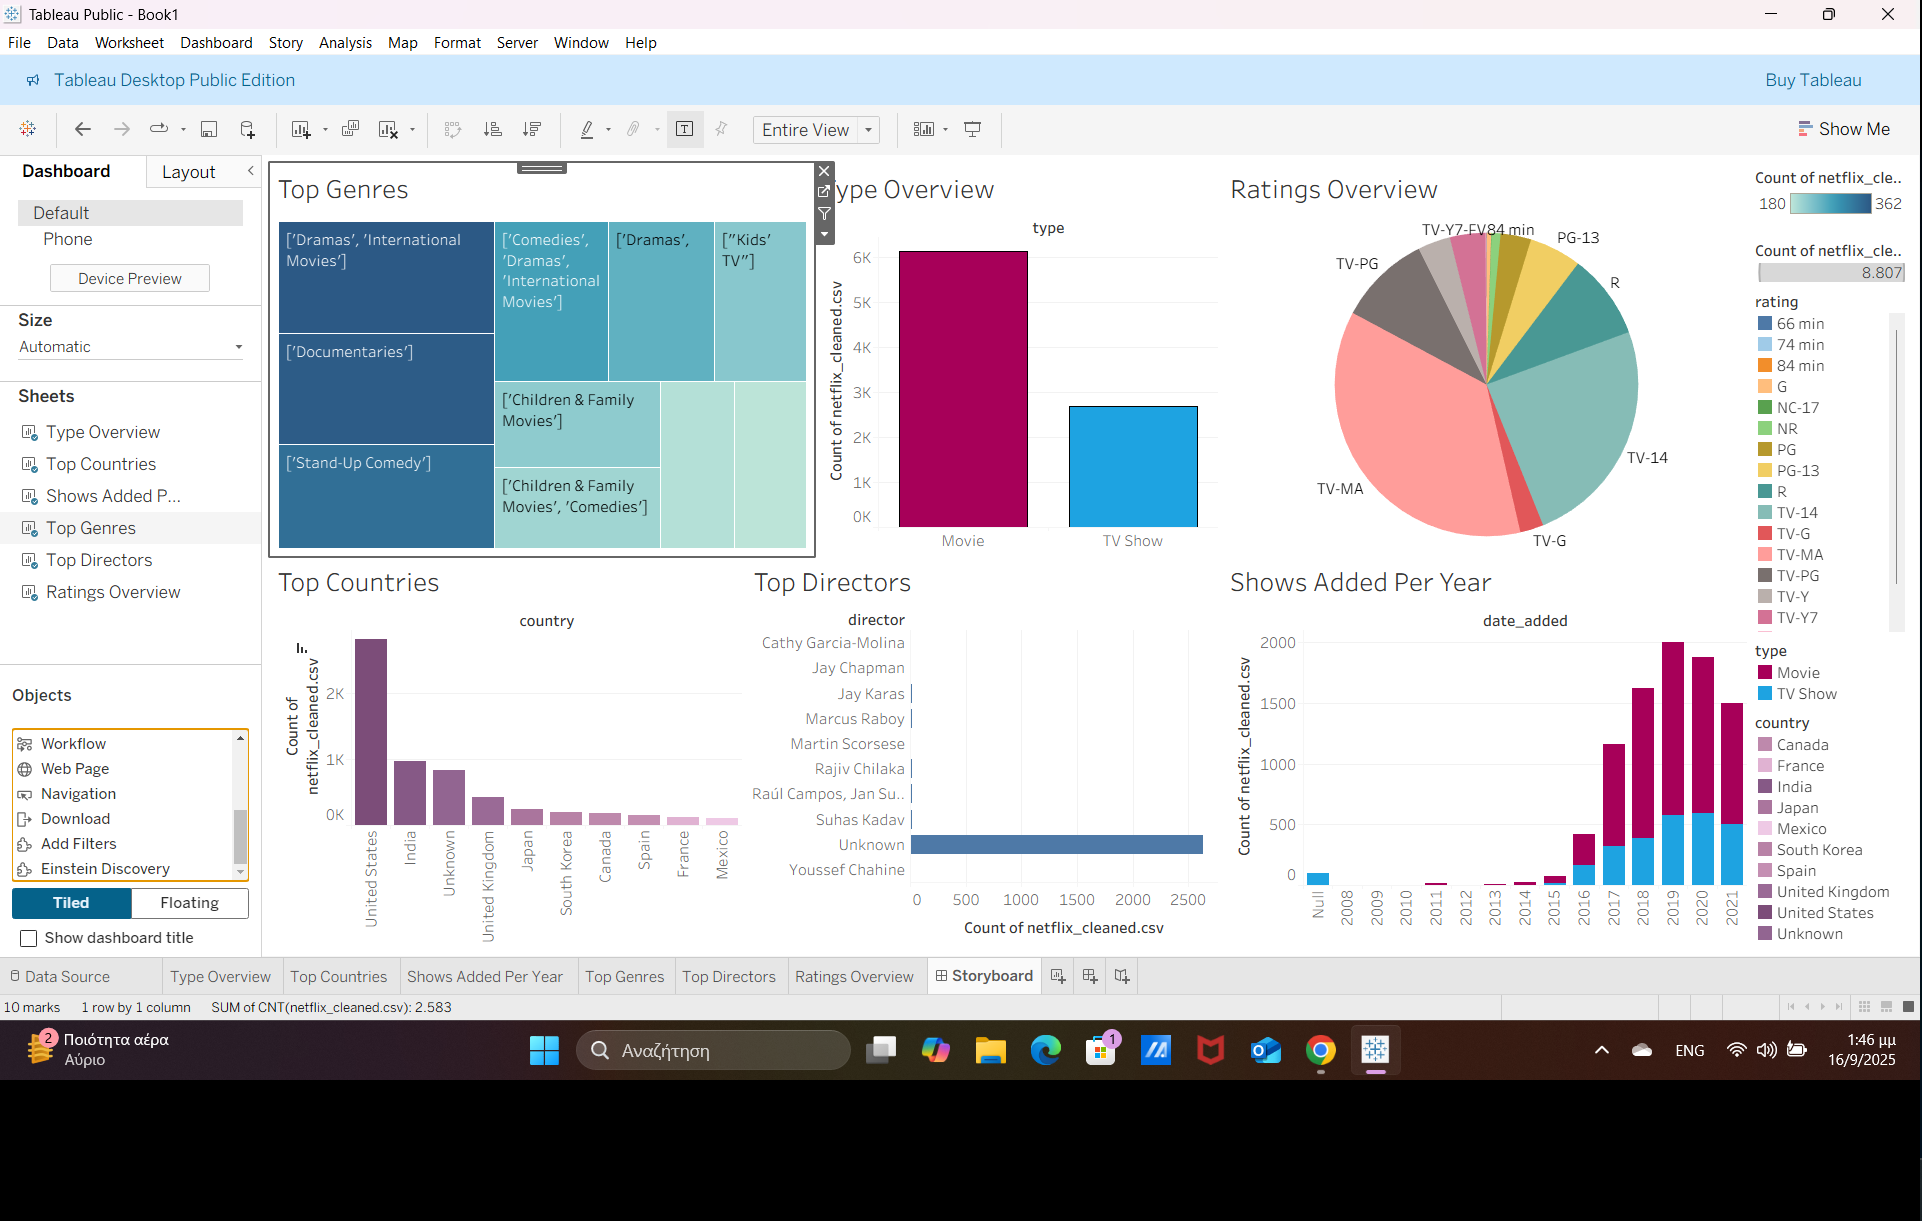

This screenshot's page, from the dashboard's own definition file:
{"tool":"tableau","page":{"name":"Storyboard","canvas":[1000,1000],"units":"permille","ordinal":0},"visuals":[{"type":"worksheet","title":"Top Genres","mark":"Automatic","box":[4.8,10,328.3,490]},{"type":"worksheet","title":"Type Overview","mark":"Automatic","rows":["netflix_cleaned.csv_982094F17CD34C459701E48312803739"],"cols":["type"],"box":[333.1,10,246.2,490]},{"type":"worksheet","title":"Ratings Overview","mark":"Pie","box":[579.4,10,319.2,490]},{"type":"legend","title":"Top Genres","param":"[federated.1uqyvbd1ht5rrz11zi4ga0sx1miv].[__tableau_internal_object_id__].[cnt:n","box":[898.6,10,96.6,91.1]},{"type":"legend","title":"Ratings Overview","param":"[federated.1uqyvbd1ht5rrz11zi4ga0sx1miv].[__tableau_internal_object_id__].[cnt:n","box":[898.6,101.1,96.6,63.7]},{"type":"legend","title":"Ratings Overview","param":"[federated.1uqyvbd1ht5rrz11zi4ga0sx1miv].[none:rating:nk]","box":[898.6,164.8,96.6,435.7]},{"type":"worksheet","title":"Top Countries","mark":"Automatic","rows":["netflix_cleaned.csv_982094F17CD34C459701E48312803739"],"cols":["country"],"box":[4.8,500,287.3,490]},{"type":"worksheet","title":"Top Directors","mark":"Automatic","rows":["director"],"cols":["netflix_cleaned.csv_982094F17CD34C459701E48312803739"],"box":[292.1,500,287.3,490]},{"type":"worksheet","title":"Shows Added Per Year","mark":"Bar","rows":["netflix_cleaned.csv_982094F17CD34C459701E48312803739"],"cols":["date_added"],"box":[579.4,500,319.2,490]},{"type":"legend","title":"Shows Added Per Year","param":"[federated.1uqyvbd1ht5rrz11zi4ga0sx1miv].[none:type:nk]","box":[898.6,600.5,96.6,89.9]},{"type":"legend","title":"Top Countries","param":"[federated.1uqyvbd1ht5rrz11zi4ga0sx1miv].[none:country:nk]","box":[898.6,690.4,96.6,299.6]}]}

Visuals, with their boxes on the dashboard's canvas, which has no fixed pixel size, in thousandths of its width and height (x1, y1, x2, y2). These are canvas units, not pixel positions in the 1922x1221 screenshot, which may show the page scaled, cropped or inside an application window:
"Top Genres" worksheet: Rect(5, 10, 333, 500)
"Type Overview" worksheet: Rect(333, 10, 579, 500)
"Ratings Overview" worksheet (Pie marks): Rect(579, 10, 899, 500)
"Top Genres" legend: Rect(899, 10, 995, 101)
"Ratings Overview" legend: Rect(899, 101, 995, 165)
"Ratings Overview" legend: Rect(899, 165, 995, 600)
"Top Countries" worksheet: Rect(5, 500, 292, 990)
"Top Directors" worksheet: Rect(292, 500, 579, 990)
"Shows Added Per Year" worksheet (Bar marks): Rect(579, 500, 899, 990)
"Shows Added Per Year" legend: Rect(899, 600, 995, 690)
"Top Countries" legend: Rect(899, 690, 995, 990)
